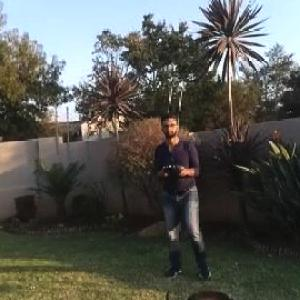follow: (150, 106, 224, 284)
null: (161, 287, 242, 299)
